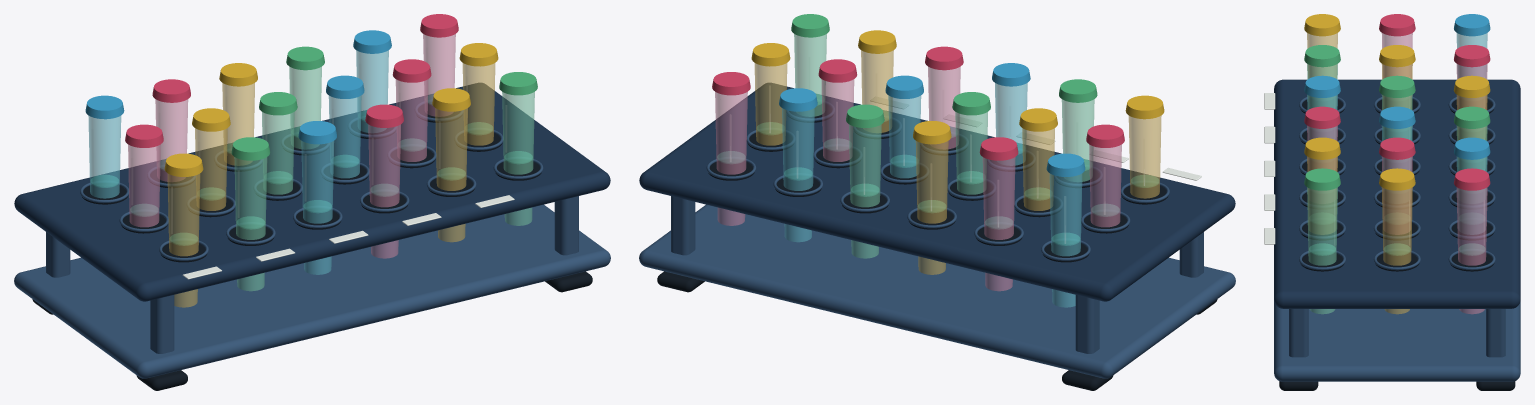
File: test-tube-rack.glb
3 views of the same model, side by side, from view 1: azimuth 30°, elevation 25°; view 2: azimuth 150°, elevation 25°; view 3: azimuth 270°, elevation 25° (orthographic). The views are drawn at different scales.
Parts seen in each view (by area): view 1: beveled_perforated_top_plate, beveled_bottom_plate, vertical_corner_post (×3), translucent_tapered_tube_2_5, translucent_tapered_tube_2_4, translucent_tapered_tube_2_3, translucent_tapered_tube_2_2, translucent_tapered_tube_2_1, translucent_tapered_tube_2_0, translucent_tapered_tube_1_0, translucent_tapered_tube_0_0, translucent_tapered_tube_1_1 (+41 smaller); view 2: beveled_perforated_top_plate, beveled_bottom_plate, vertical_corner_post (×3), translucent_tapered_tube_0_5, translucent_tapered_tube_0_4, translucent_tapered_tube_0_3, translucent_tapered_tube_0_2, translucent_tapered_tube_0_1, translucent_tapered_tube_0_0, translucent_tapered_tube_1_0, translucent_tapered_tube_2_0, translucent_tapered_tube_1_1 (+41 smaller); view 3: beveled_perforated_top_plate, beveled_bottom_plate, translucent_tapered_tube_0_5, translucent_tapered_tube_1_5, translucent_tapered_tube_2_5, vertical_corner_post (×2), translucent_tapered_tube_0_4, translucent_tapered_tube_2_4, translucent_tapered_tube_1_4, rubber_rack_foot (×2), colored_snap_cap_1_5, colored_snap_cap_2_5 (+43 smaller).
Boxes of the visible parts, box(x1,y1,x2,y2) form: beveled_perforated_top_plate: box(14, 83, 610, 301); beveled_bottom_plate: box(14, 204, 610, 378); vertical_corner_post (×3): box(46, 196, 578, 353); translucent_tapered_tube_2_5: box(502, 92, 534, 225); translucent_tapered_tube_2_4: box(435, 108, 467, 242); translucent_tapered_tube_2_3: box(368, 124, 400, 258); translucent_tapered_tube_2_2: box(301, 141, 334, 274); translucent_tapered_tube_2_1: box(234, 157, 267, 291); translucent_tapered_tube_2_0: box(167, 174, 200, 307); translucent_tapered_tube_1_0: box(128, 144, 160, 227); translucent_tapered_tube_0_0: box(88, 115, 121, 198); translucent_tapered_tube_1_1: box(195, 128, 227, 210); beveled_perforated_top_plate: box(639, 83, 1235, 301); beveled_bottom_plate: box(639, 204, 1235, 378); vertical_corner_post (×3): box(671, 196, 1203, 353); translucent_tapered_tube_0_5: box(715, 92, 747, 225); translucent_tapered_tube_0_4: box(782, 108, 814, 242); translucent_tapered_tube_0_3: box(849, 124, 881, 258); translucent_tapered_tube_0_2: box(915, 141, 948, 274); translucent_tapered_tube_0_1: box(982, 157, 1015, 291); translucent_tapered_tube_0_0: box(1049, 174, 1082, 307); translucent_tapered_tube_1_0: box(1089, 144, 1121, 227); translucent_tapered_tube_2_0: box(1128, 115, 1161, 198); translucent_tapered_tube_1_1: box(1022, 128, 1054, 210); beveled_perforated_top_plate: box(1274, 79, 1520, 308); beveled_bottom_plate: box(1274, 300, 1520, 381); translucent_tapered_tube_0_5: box(1456, 187, 1487, 314); translucent_tapered_tube_1_5: box(1381, 187, 1412, 314); translucent_tapered_tube_2_5: box(1307, 187, 1337, 314); vertical_corner_post (×2): box(1289, 309, 1505, 357); translucent_tapered_tube_0_4: box(1456, 156, 1487, 234); translucent_tapered_tube_2_4: box(1307, 156, 1337, 234); translucent_tapered_tube_1_4: box(1382, 156, 1412, 234); rubber_rack_foot (×2): box(1279, 381, 1515, 390); colored_snap_cap_1_5: box(1379, 168, 1415, 190); colored_snap_cap_2_5: box(1304, 168, 1340, 190).
Bounding box in the file's own units: 15.2 × 6.25 × 7.53.
